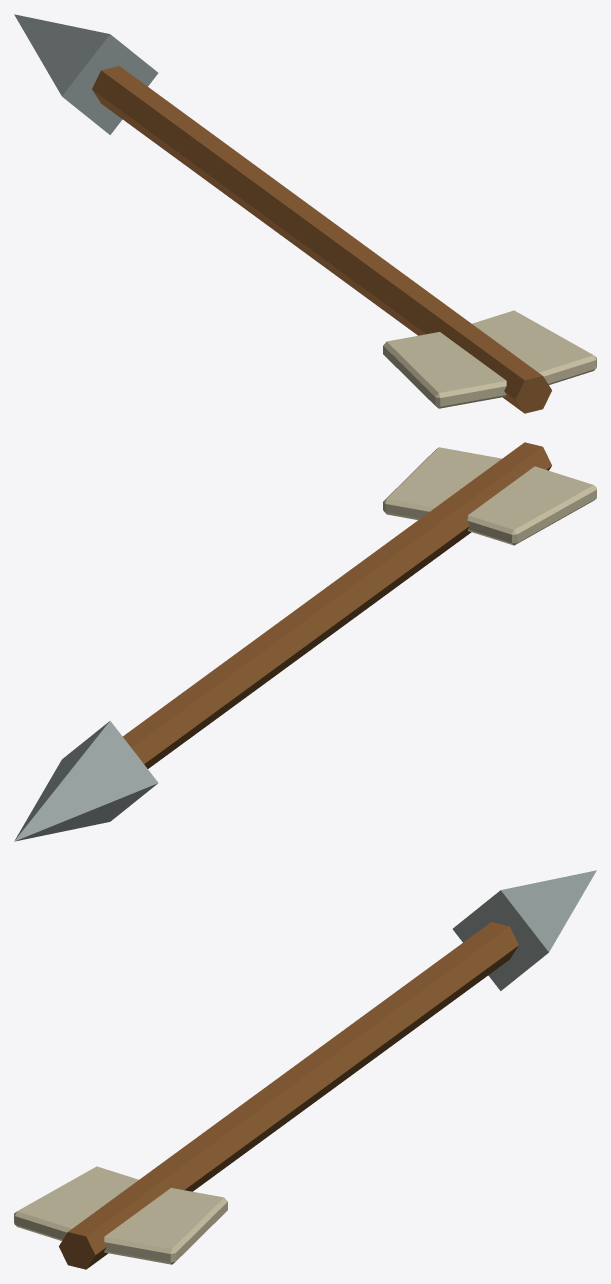
Rendered from Bolt.glb.
3 renders of one model, top to bottom at view 1: azimuth 30°, elevation 25°; view 2: azimuth 150°, elevation 25°; view 3: azimuth 330°, elevation 25°, orthographic.
Parts seen in each view (by area): view 1: Sculpture; view 2: Sculpture; view 3: Sculpture.
Part boxes in pixels (x1,y1,x2,y2): Sculpture: (14,14,596,413); Sculpture: (14,442,596,841); Sculpture: (14,870,596,1269).
Bounding box in the file's own units: 0.0969 × 0.058 × 0.54.
